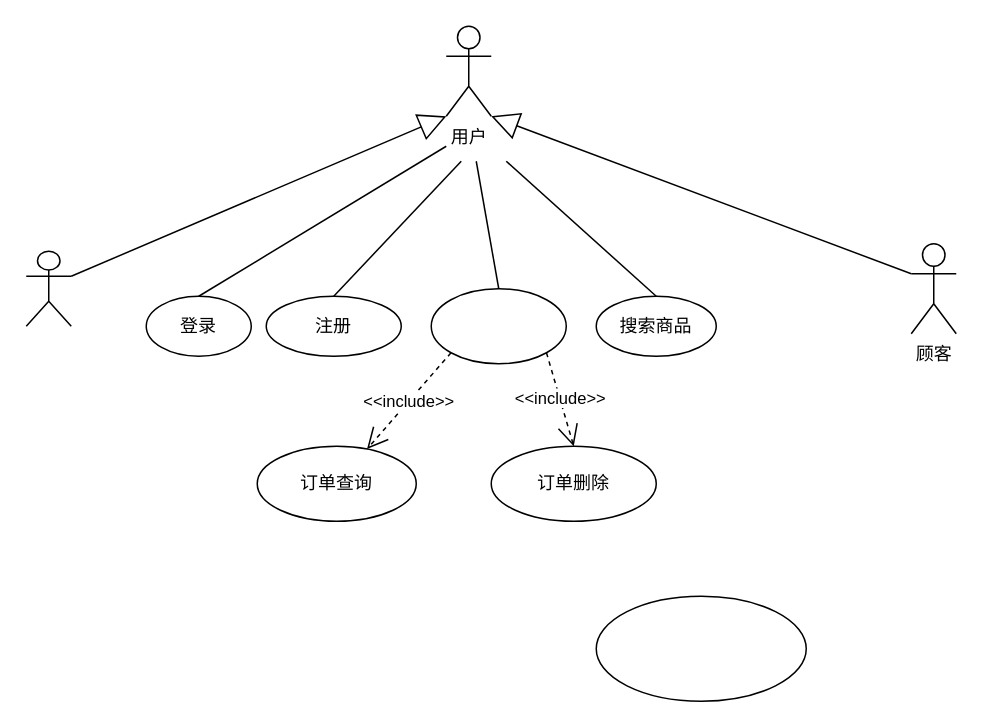
Some shapes in this 983 by 728 pixel diagram are drawn without their labels. The shapes that lost their labels are listed below. From the top down, each one's centre as x and y in pixels, then its label:
At point (48, 288): "商家".
At point (498, 325): "订单管理".
At point (700, 648): "购物车管理".
